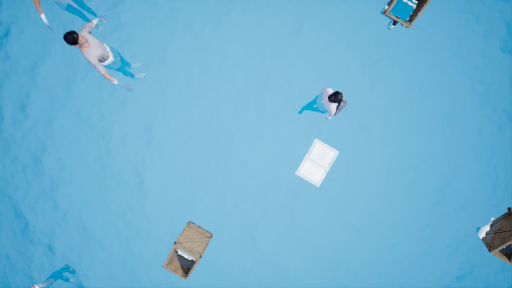person: (64, 26, 149, 94), (299, 89, 350, 122)
